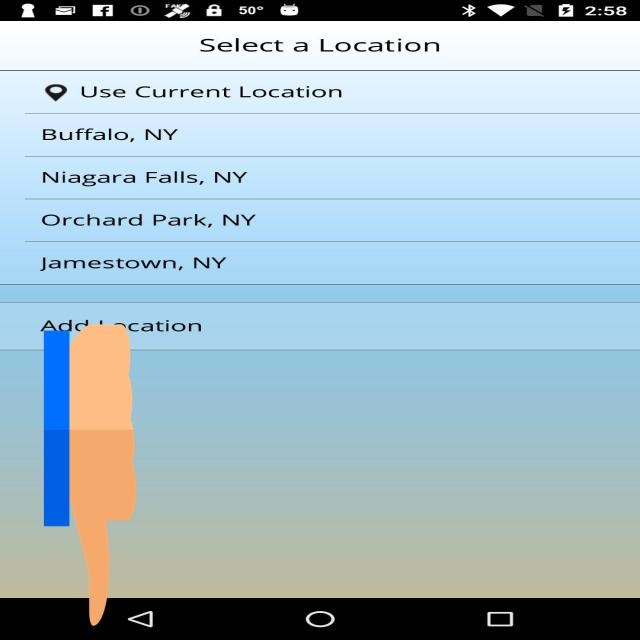obstruction: (44, 317, 136, 633)
